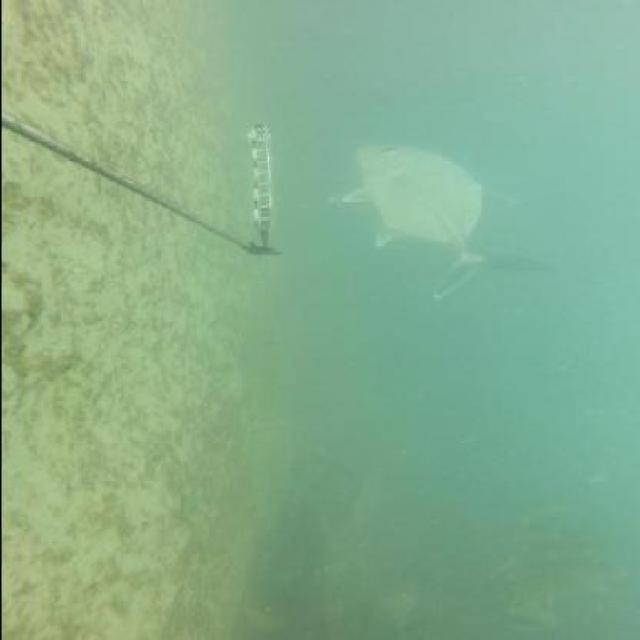Caranx: (334, 143, 552, 300)
